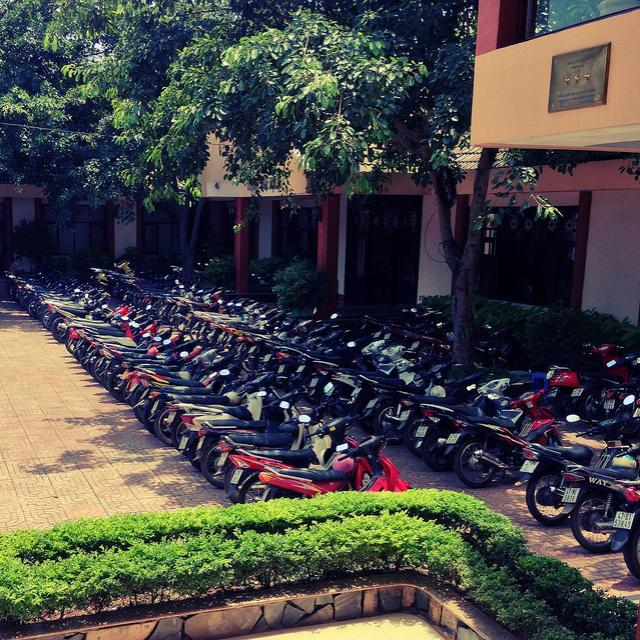motor: (2, 236, 639, 468), (514, 394, 640, 528), (201, 384, 345, 491), (224, 408, 373, 505), (239, 430, 412, 504), (443, 385, 563, 489), (416, 375, 530, 472), (304, 316, 408, 404), (164, 362, 267, 450), (561, 442, 640, 555), (192, 390, 301, 469), (357, 361, 456, 440), (89, 326, 174, 385), (52, 304, 108, 342)
